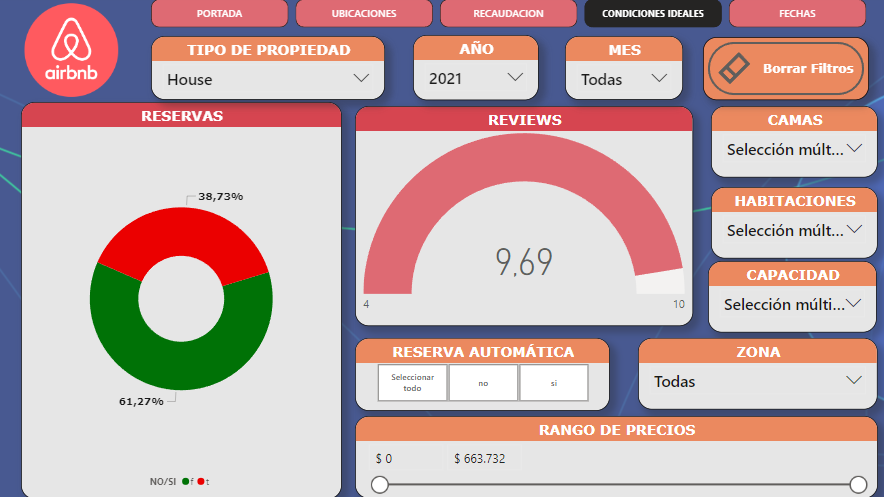

What the dashboard file says about the page in this screenshot:
{"tool":"powerbi","page":{"name":"CONDICIONES IDEALES","canvas":[1280,720],"ordinal":2},"visuals":[{"type":"slicer","title":"CAMAS","fields":{"Values":["listings.camas"]},"box":[1024.6,153.8,240.5,103.1],"z":0},{"type":"slicer","title":"HABITACIONES","fields":{"Values":["listings.habitaciones"]},"box":[1024.6,270.3,240.5,103.1],"z":1000},{"type":"slicer","title":"CAPACIDAD","fields":{"Values":["listings.para_cuantas_personas"]},"box":[1021.6,377.9,243.5,103.1],"z":2000},{"type":"slicer","title":"RESERVA AUTOMÁTICA","fields":{"Values":["listings.reserva_instantanea"]},"box":[512.3,488.4,367.4,104.6],"z":3000},{"type":"slicer","title":"ZONA","fields":{"Values":["listings.barrio"]},"box":[920,488.4,345,103.1],"z":4000},{"type":"slicer","title":"RANGO DE PRECIOS","fields":{"Values":["listings.price"]},"box":[512.3,600.4,752.8,119.5],"z":5000},{"type":"gauge","title":"REVIEWS","fields":{"Y":["Avg(listings.review_ubicacion)"],"MaxValue":["Max(listings.review_general)"],"MinValue":["Min(listings.review_general)"]},"box":[512.3,153.8,486.9,316.6],"z":6000},{"type":"donutChart","title":"RESERVAS","fields":{"Y":["CountNonNull(calendar.Disponibilidad)"],"Category":["calendar.Disponibilidad"]},"box":[31.4,147.9,461.5,572],"z":7000},{"type":"image","box":[31.7,0,145.4,146.9],"z":8000},{"type":"slicer","title":"TIPO DE PROPIEDAD","fields":{"Values":["listings.tipo_propiedad"]},"box":[218.9,53.3,337,92.2],"z":9000},{"type":"slicer","title":"AÑO","fields":{"Values":["calendar.Fecha.Variación.Jerarquía de fechas.Año"]},"box":[596.2,51.8,181.4,93.6],"z":10000},{"type":"slicer","title":"MES","fields":{"Values":["calendar.Fecha.Variación.Jerarquía de fechas.Mes"]},"box":[815,53.3,169.9,92.2],"z":11000},{"type":"pageNavigator","box":[218.9,0,1033.9,41.8],"z":12000},{"type":"actionButton","box":[1013.8,54.7,239,90.7],"z":13000}]}

Visuals, with their boxes in screenshot pixels (x1, y1, x2, y2), scaled from the page's 1280x720 canvas onto the 884x497 screenshot:
"CAMAS" slicer: x1=708, y1=106, x2=874, y2=177
"HABITACIONES" slicer: x1=708, y1=187, x2=874, y2=258
"CAPACIDAD" slicer: x1=706, y1=261, x2=874, y2=332
"RESERVA AUTOMÁTICA" slicer: x1=354, y1=337, x2=608, y2=409
"ZONA" slicer: x1=635, y1=337, x2=874, y2=408
"RANGO DE PRECIOS" slicer: x1=354, y1=414, x2=874, y2=496
"REVIEWS" gauge: x1=354, y1=106, x2=690, y2=325
"RESERVAS" donutChart: x1=22, y1=102, x2=340, y2=496
image: x1=22, y1=0, x2=122, y2=101
"TIPO DE PROPIEDAD" slicer: x1=151, y1=37, x2=384, y2=100
"AÑO" slicer: x1=412, y1=36, x2=537, y2=100
"MES" slicer: x1=563, y1=37, x2=680, y2=100
pageNavigator: x1=151, y1=0, x2=865, y2=29
actionButton: x1=700, y1=38, x2=865, y2=100
